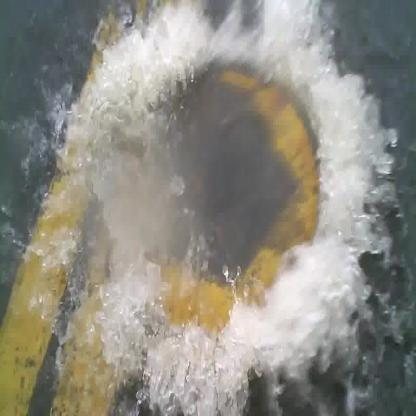drainage overflow-repair-: (9, 0, 401, 414)
